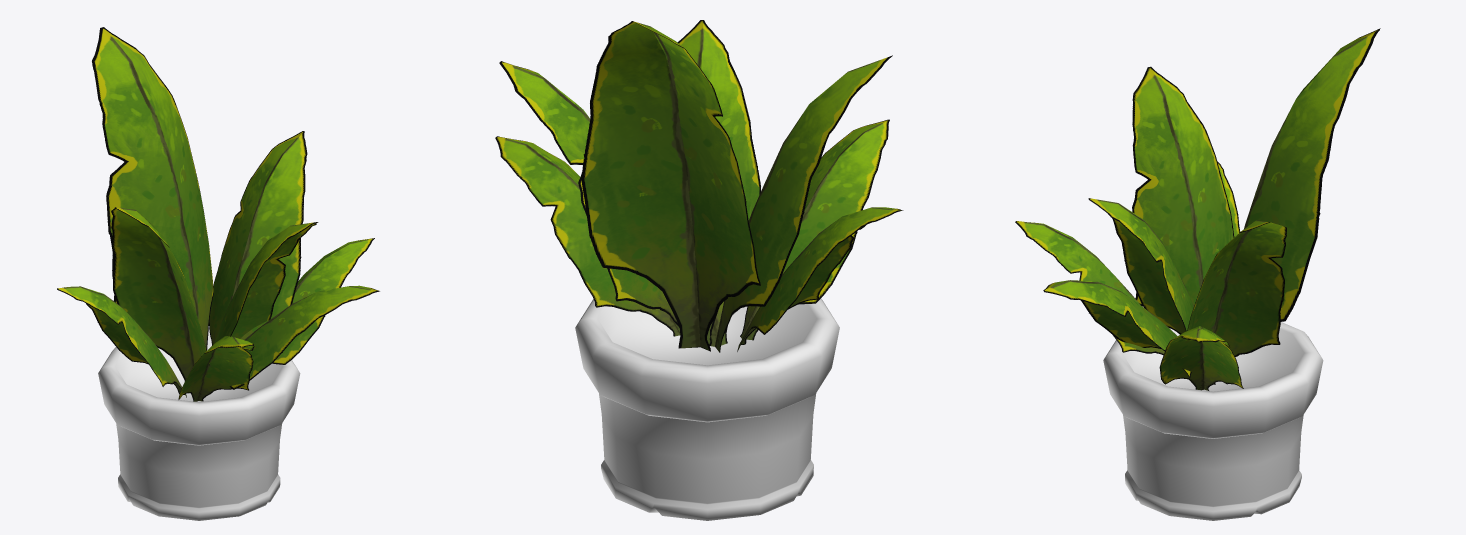
File: PlantSmall_03.fbx
3 views of the same model, side by side, from view 1: azimuth 30°, elevation 25°; view 2: azimuth 150°, elevation 25°; view 3: azimuth 270°, elevation 25° (orthographic). The views are drawn at different scales.
Visible parts, largest first — view 1: Plane.136, Cylinder.138; view 2: Plane.136, Cylinder.138; view 3: Plane.136, Cylinder.138.
Part boxes in pixels (x1,y1,x2,y2): Plane.136: [57, 27, 379, 401]; Cylinder.138: [98, 328, 300, 520]; Plane.136: [495, 20, 903, 352]; Cylinder.138: [575, 298, 839, 520]; Plane.136: [1015, 28, 1380, 390]; Cylinder.138: [1103, 322, 1323, 520].
Bounding box in the file's own units: 451 × 504 × 475.
